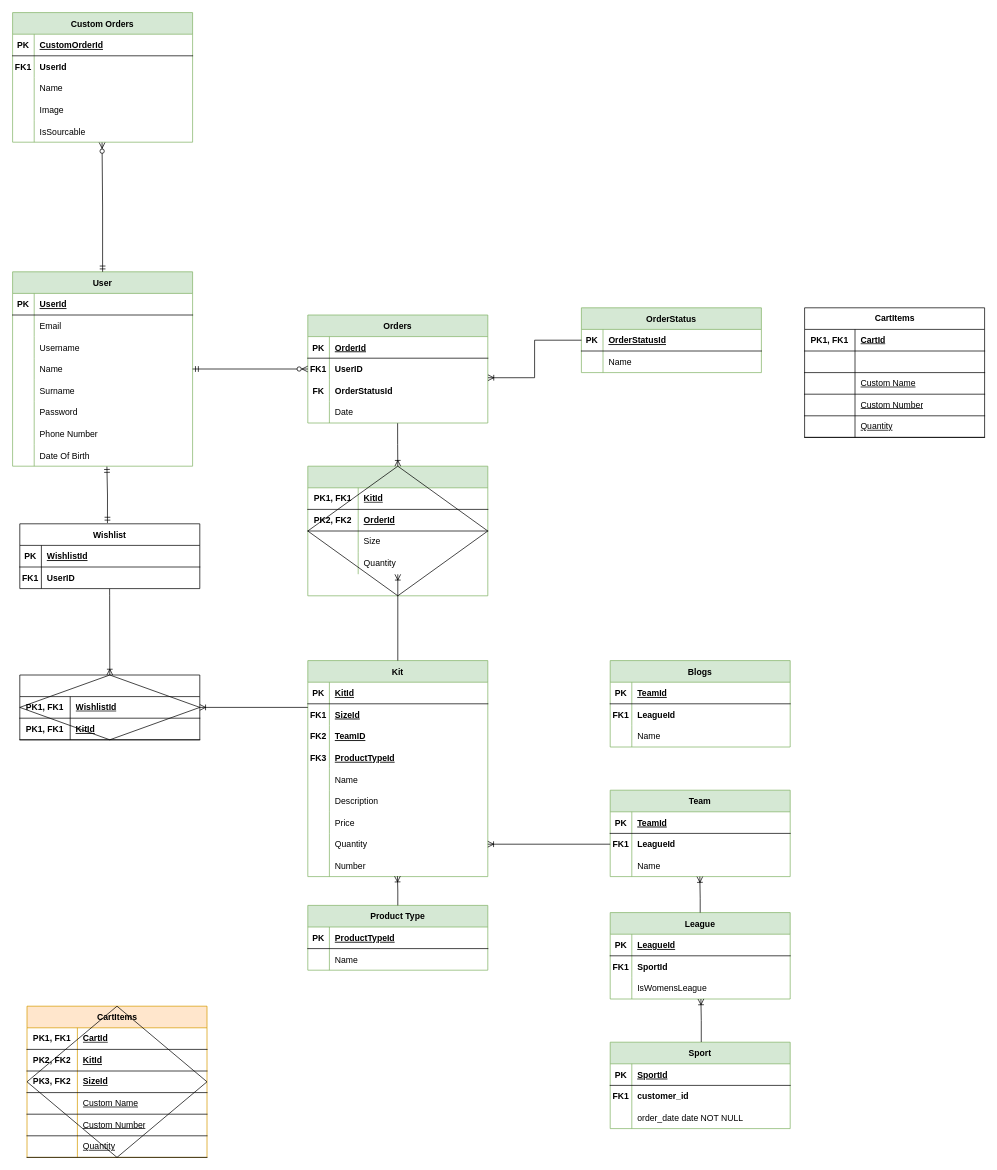
Image size: 997x1170. Some labels were removed from this diagram. Here are the shapes that lost their labels. From the top down, the centre of each, then its label:
At (x=397, y=530): "KitOrders".
At (x=109, y=707): "User Wishlist".
